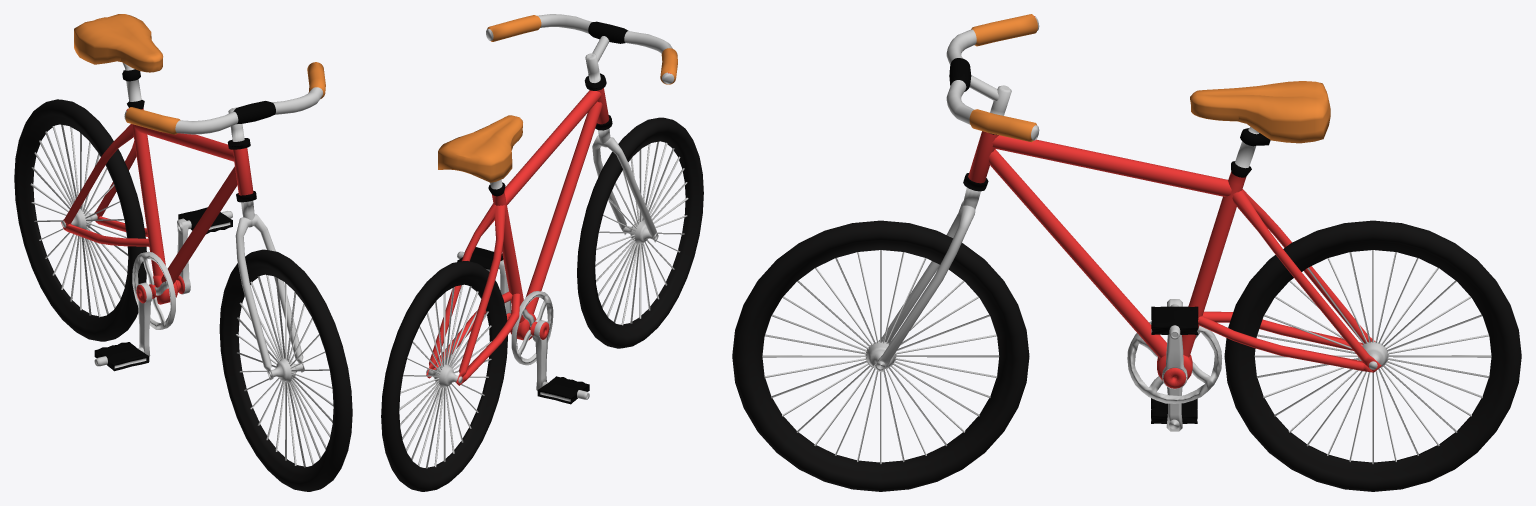
The model's file is Bike.fbx.
3 views of the same model, side by side, from view 1: azimuth 30°, elevation 25°; view 2: azimuth 150°, elevation 25°; view 3: azimuth 270°, elevation 25° (orthographic). The views are drawn at different scales.
Parts seen in each view (by area): view 1: Cylinder.010, Circle.001, Cylinder.002, Cylinder.008, Cylinder.006, Cylinder.009; view 2: Cylinder.010, Cylinder.002, Circle.001, Cylinder.008, Cylinder.006, Cylinder.009, Cylinder.005; view 3: Cylinder.010, Circle.001, Cylinder.002, Cylinder.008, Cylinder.009, Cylinder.006.
Part boxes in pixels (x1,y1,x2,y2): Cylinder.010: [124, 62, 352, 491]; Circle.001: [14, 99, 146, 341]; Cylinder.002: [61, 14, 253, 304]; Cylinder.008: [132, 218, 190, 356]; Cylinder.006: [94, 342, 149, 371]; Cylinder.009: [177, 207, 232, 234]; Cylinder.010: [486, 14, 703, 348]; Cylinder.002: [426, 88, 609, 385]; Circle.001: [381, 261, 507, 491]; Cylinder.008: [499, 260, 553, 390]; Cylinder.006: [537, 376, 589, 404]; Cylinder.009: [457, 247, 503, 271]; Cylinder.005: [426, 364, 462, 387]; Cylinder.010: [732, 14, 1039, 491]; Circle.001: [1224, 220, 1521, 491]; Cylinder.002: [968, 81, 1381, 388]; Cylinder.008: [1127, 299, 1222, 431]; Cylinder.009: [1151, 304, 1198, 339]; Cylinder.006: [1151, 398, 1197, 429].
Size of the model in its own units: 109 by 186 by 314.
